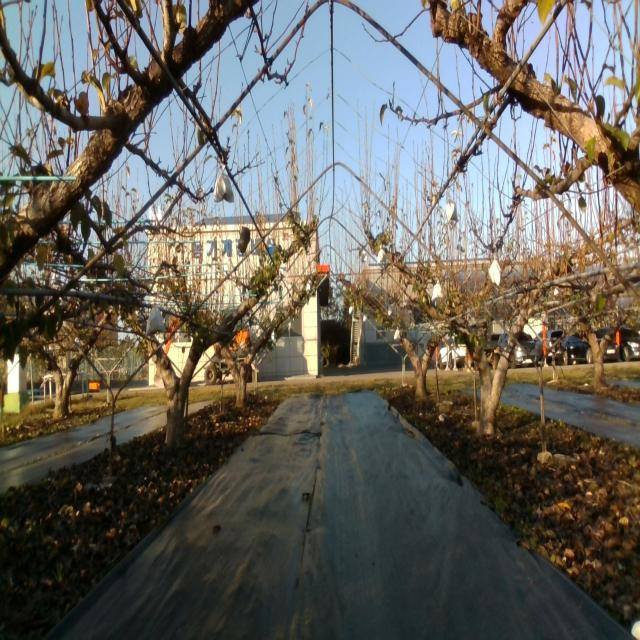pearbags: (214, 164, 234, 204), (146, 304, 163, 337), (488, 254, 501, 286), (445, 197, 457, 224), (431, 281, 442, 304)
